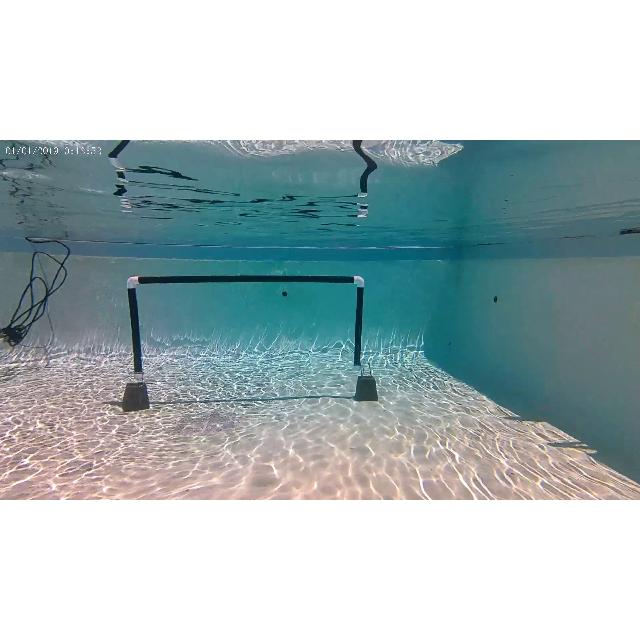prequal gate: (130, 276, 364, 374)
prequal gate leg l: (120, 269, 150, 376)
prequal gate leg r: (350, 274, 368, 372)
